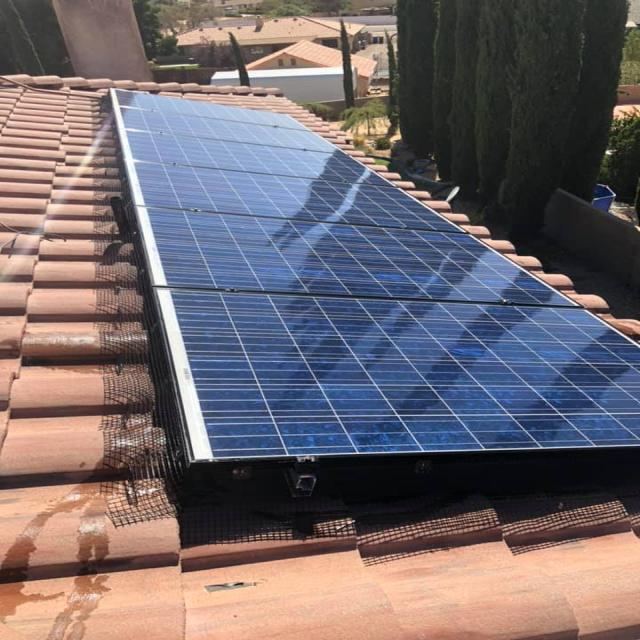clean-solar-panel: (112, 90, 638, 461)
